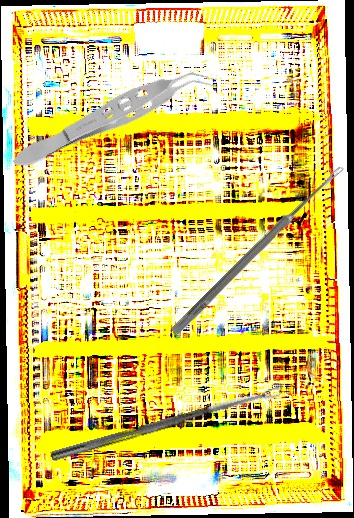Surgical Spoon: (170, 162, 346, 337), (50, 386, 282, 463)
Tissue Forceps: (6, 54, 221, 180)
